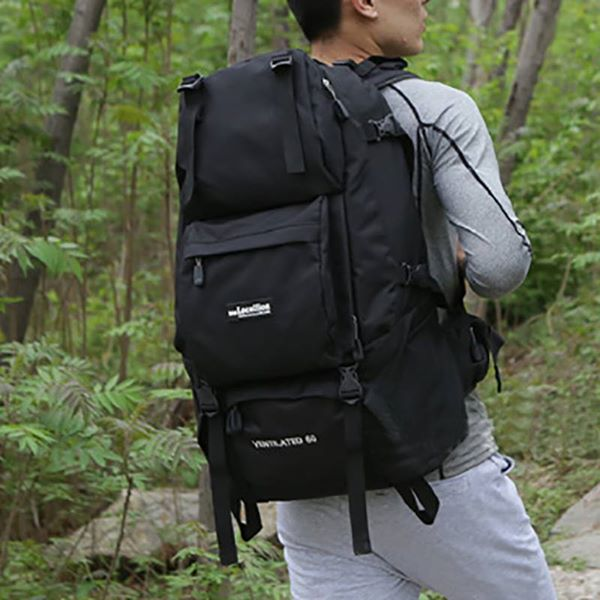backpack: (49, 47, 572, 570)
